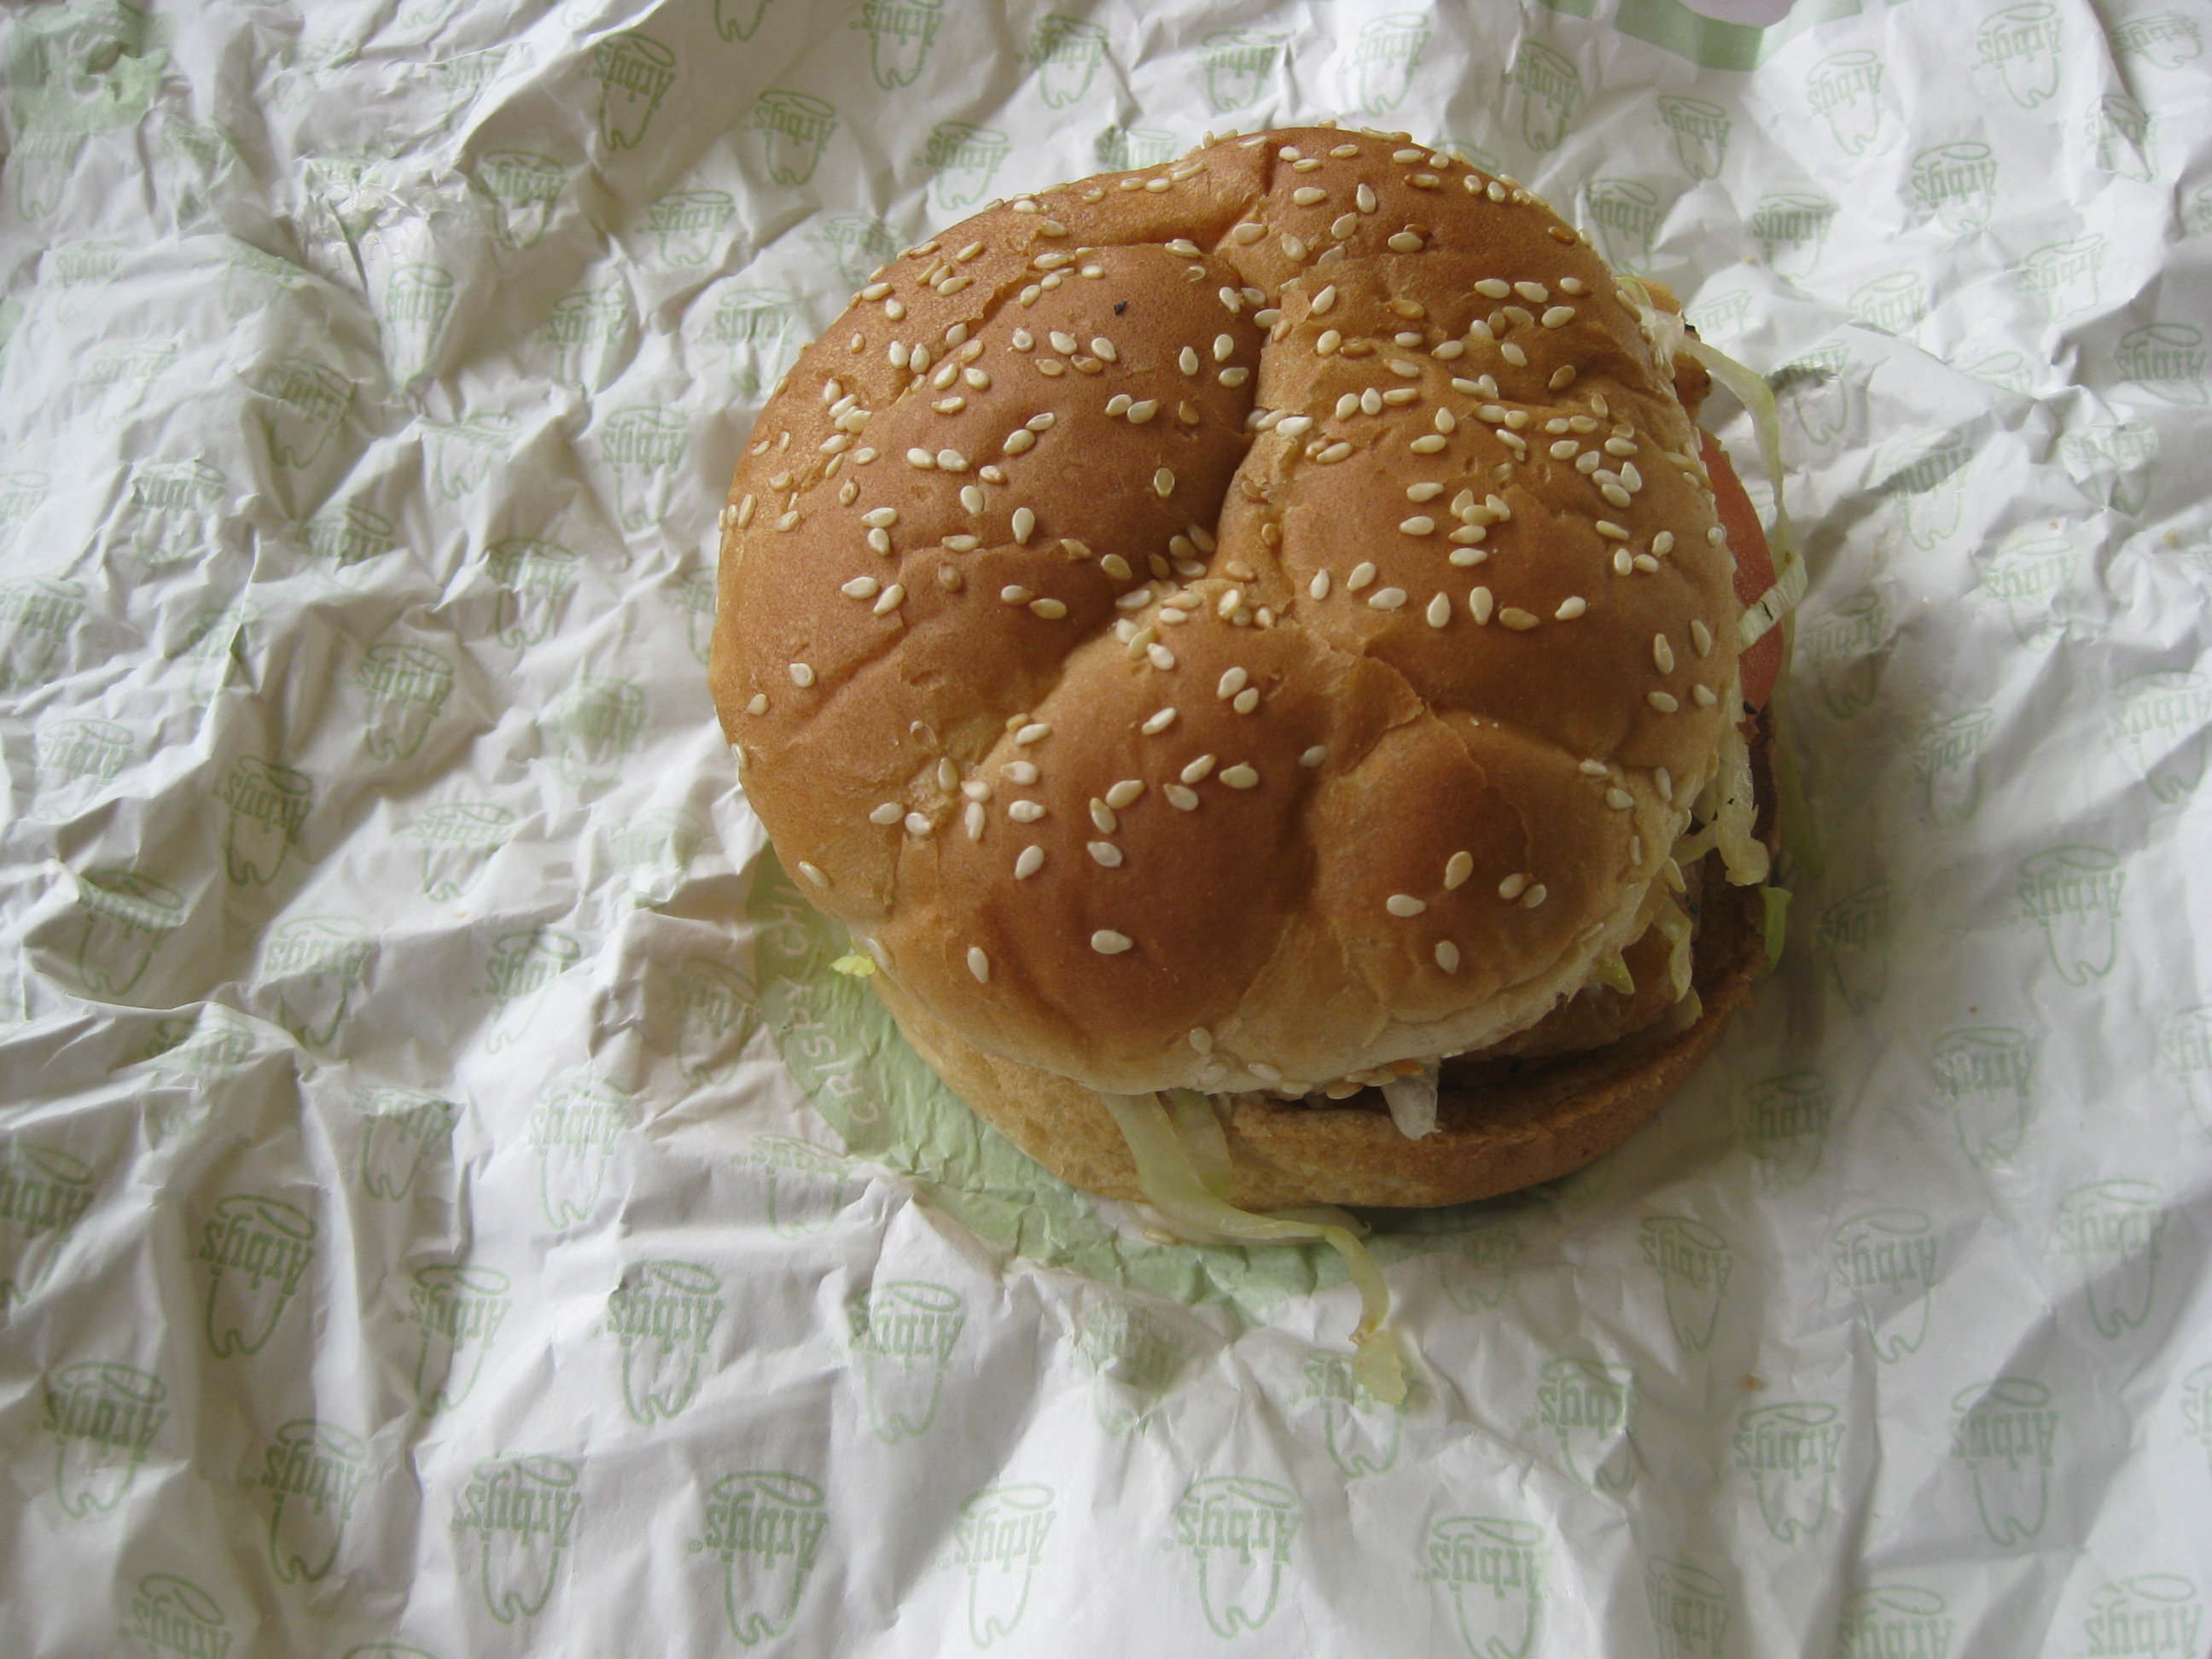burger: (667, 96, 1932, 1296)
